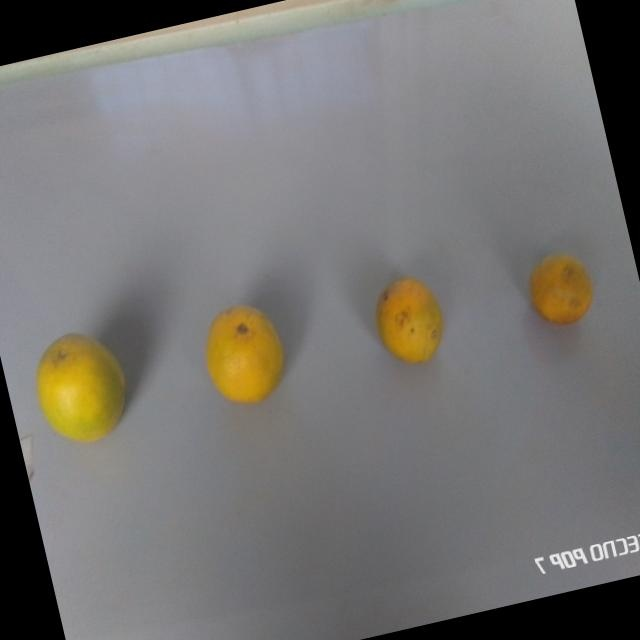agrume: (22, 312, 144, 457), (191, 288, 297, 416), (365, 262, 455, 378), (516, 239, 611, 339)
